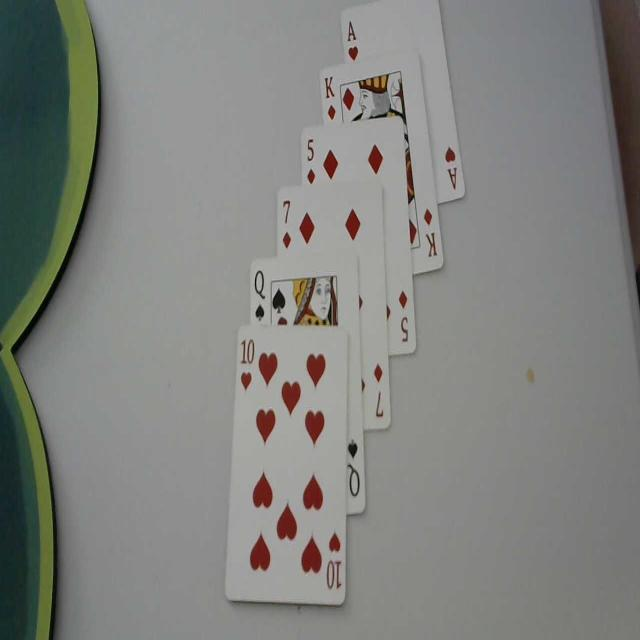10H: (324, 524, 346, 594), (237, 332, 257, 393)
5D: (396, 282, 410, 351), (305, 134, 317, 188)
7D: (278, 191, 294, 253), (374, 360, 388, 424)
AH: (442, 140, 463, 192), (346, 18, 360, 62)
KD: (421, 202, 439, 265), (321, 72, 339, 121)
QS: (345, 434, 363, 506), (251, 265, 270, 323)
